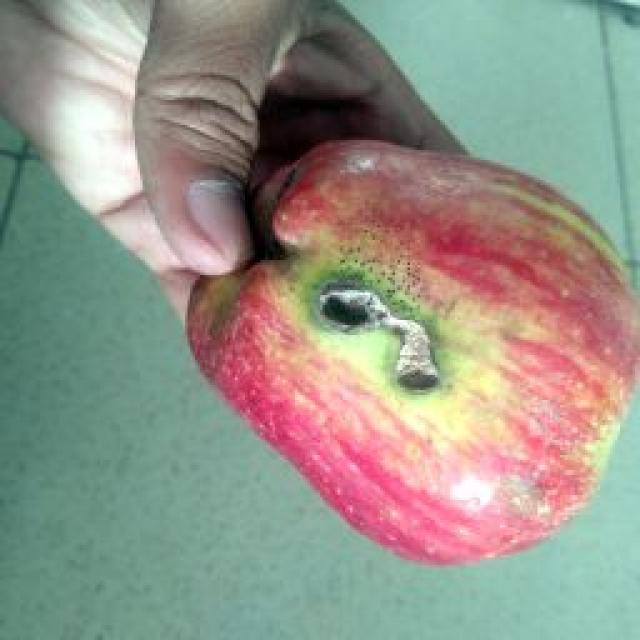Bad_Apple: (189, 141, 640, 563)
